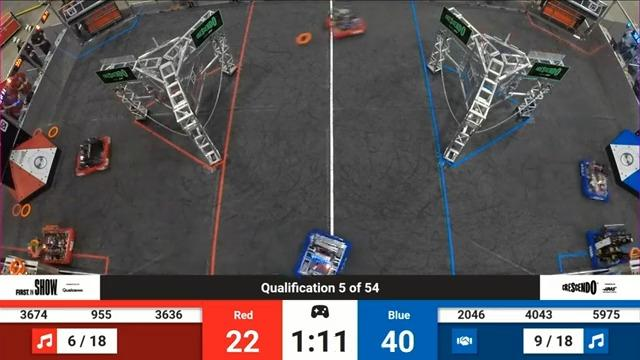robot: (580, 208, 639, 276), (297, 223, 353, 273), (28, 220, 81, 267), (571, 156, 619, 204), (76, 133, 119, 177), (327, 2, 368, 41)
